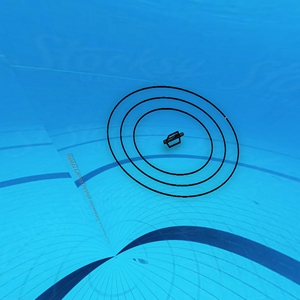circle: (106, 86, 243, 204)
submarine: (163, 130, 185, 147)
